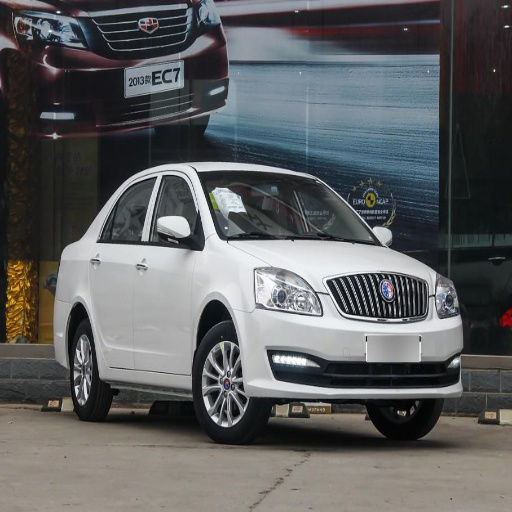front_bumper: (236, 277, 461, 400), (37, 7, 228, 140)
front_right_door: (135, 172, 201, 373)
front_right_light: (254, 266, 322, 315), (46, 16, 89, 49)
hood: (226, 241, 436, 282)
